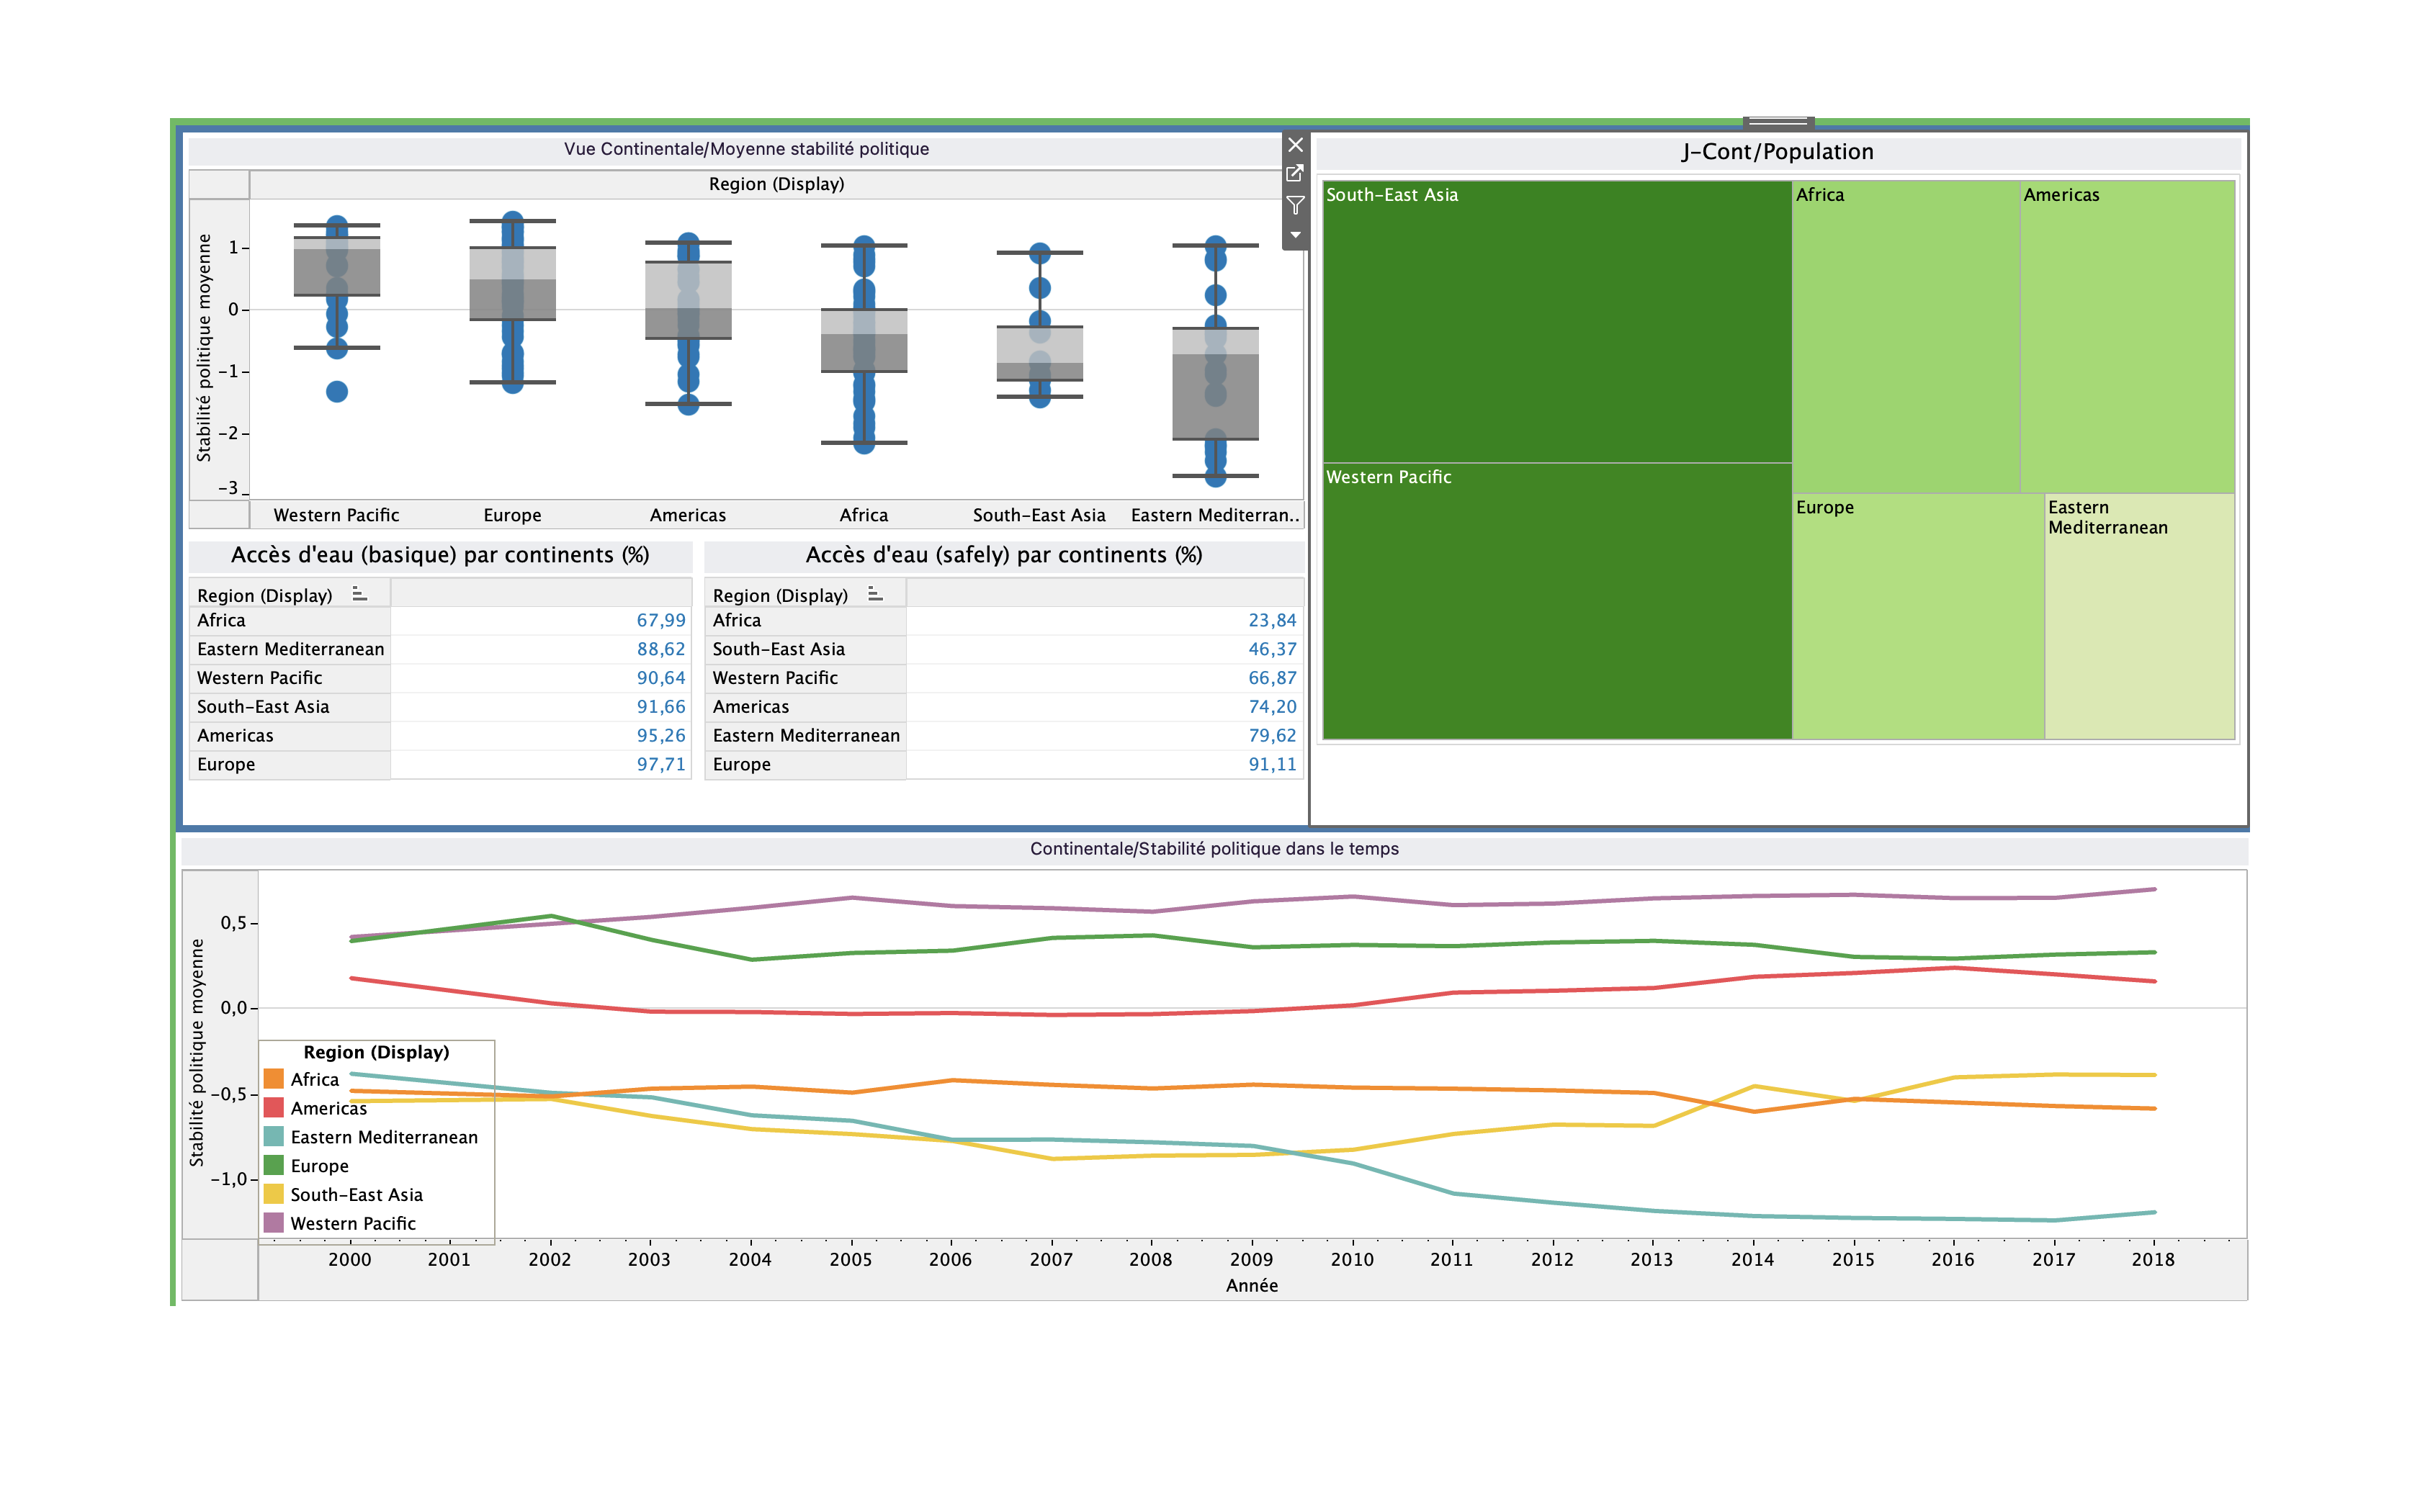

Layout of this report page (visuals, bound fields, positions):
{"tool":"tableau","page":{"name":"Tableau continentale","canvas":[1000,1000],"units":"permille","ordinal":0},"visuals":[{"type":"worksheet","title":"K-Cont/Stabilité","mark":"Circle","rows":["Political_Stability"],"cols":["REGION (DISPLAY)"],"box":[12.2,21.2,532.8,330.3]},{"type":"worksheet","title":"J-Cont/Population","mark":"Automatic","box":[545,21.2,442.7,567.9]},{"type":"worksheet","title":"Accès d'eau (basique) par continents (%)","mark":"Automatic","rows":["REGION (DISPLAY)"],"box":[12.2,351.6,243.8,237.6]},{"type":"worksheet","title":"Accès d'eau (safely) par continents (%)","mark":"Automatic","rows":["REGION (DISPLAY)"],"box":[256.1,351.6,289,237.6]},{"type":"worksheet","title":"L-Cont/ligne stabilité","mark":"Automatic","rows":["Political_Stability"],"cols":["Year (PoliticalStability.csv)"],"box":[8.8,595,982.3,389.6]},{"type":"legend","title":"L-Cont/ligne stabilité","param":"[federated.1ywh7er0wg581l1b8lv371uzpvc3].[none:REGION (DISPLAY):nk]","box":[47.5,765.1,112.5,168.8]}]}

Visuals, with their boxes on the dashboard's canvas, which has no fixed pixel size, in thousandths of its width and height (x1, y1, x2, y2). These are canvas units, not pixel positions in the 2420x1512 screenshot, which may show the page scaled, cropped or inside an application window:
"K-Cont/Stabilité" worksheet (Circle marks): [12, 21, 545, 352]
"J-Cont/Population" worksheet: [545, 21, 988, 589]
"Accès d'eau (basique) par continents (%)" worksheet: [12, 352, 256, 589]
"Accès d'eau (safely) par continents (%)" worksheet: [256, 352, 545, 589]
"L-Cont/ligne stabilité" worksheet: [9, 595, 991, 985]
"L-Cont/ligne stabilité" legend: [48, 765, 160, 934]
